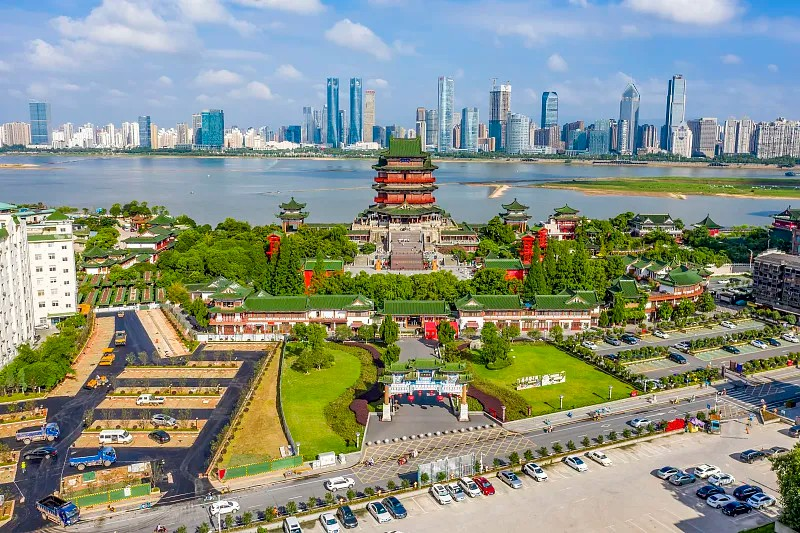Teng: (358, 136, 446, 225)
